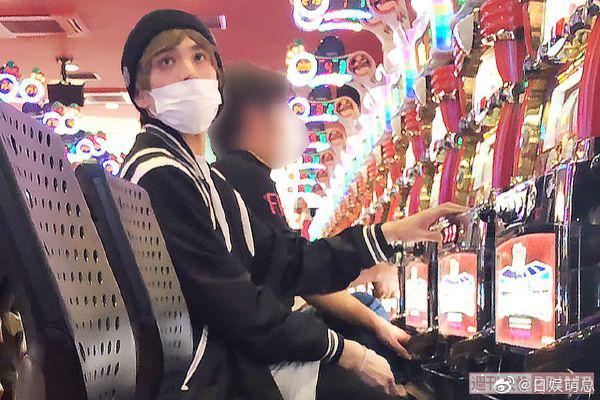WRONG: (147, 36, 220, 133)
